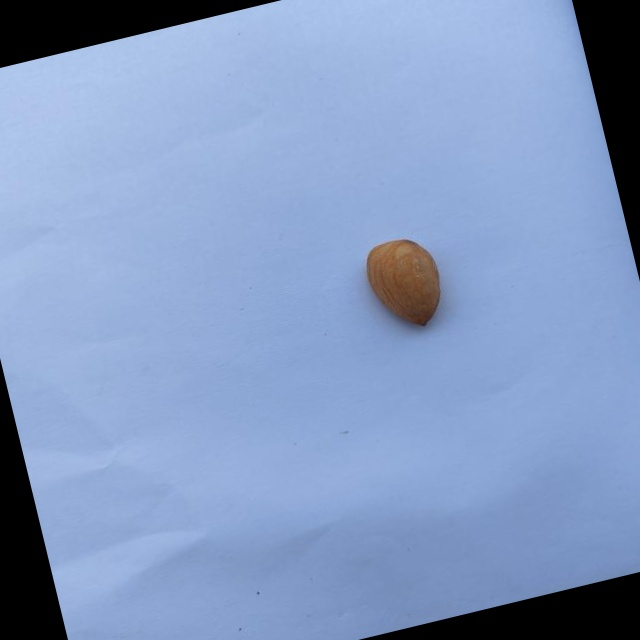grade2: (353, 228, 454, 340)
